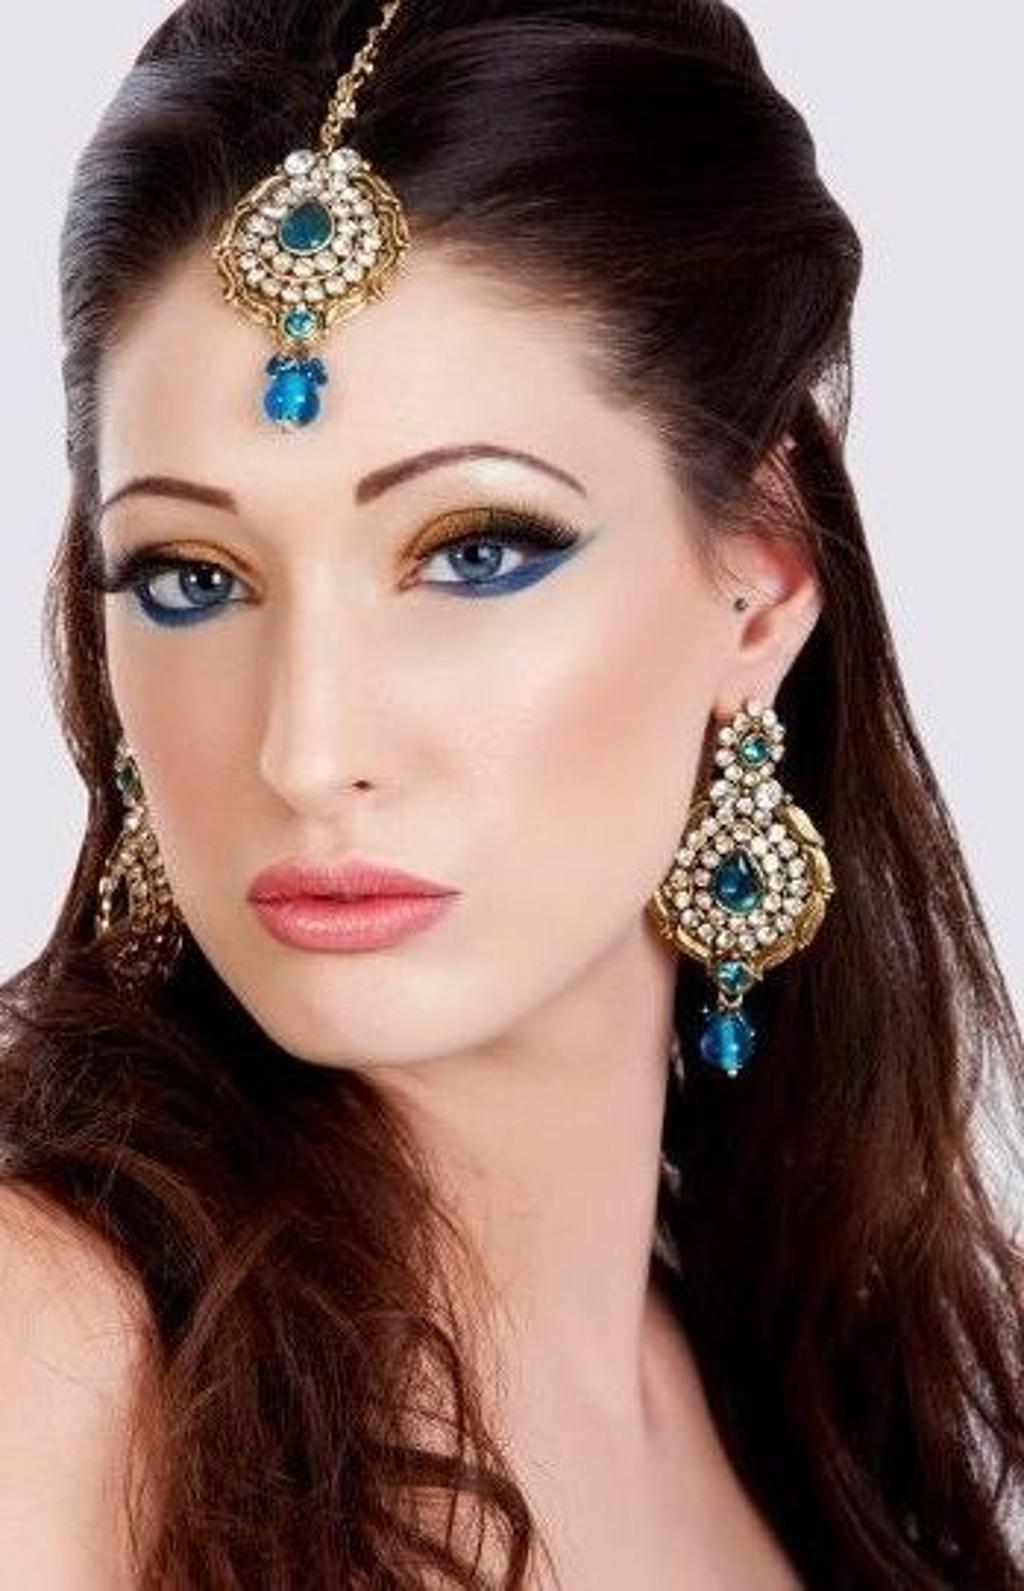face: (102, 251, 707, 1055)
